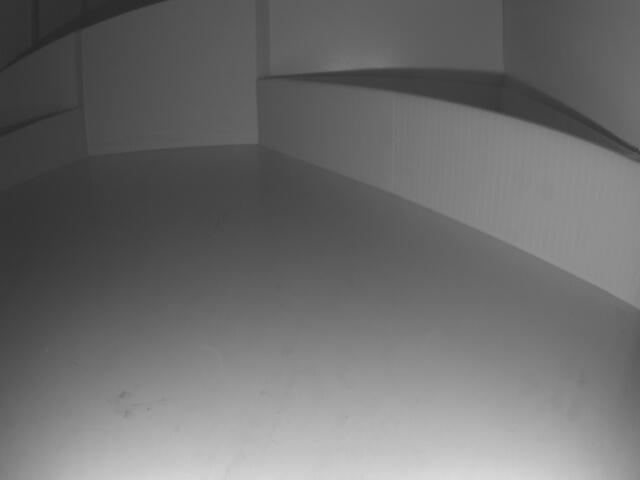Point: (258, 79, 640, 311), (0, 108, 84, 196)
